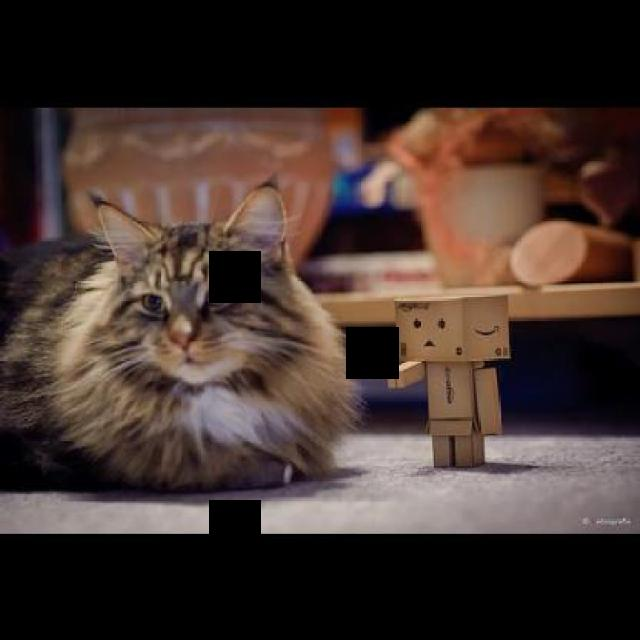unauthorized: (0, 171, 366, 494)
